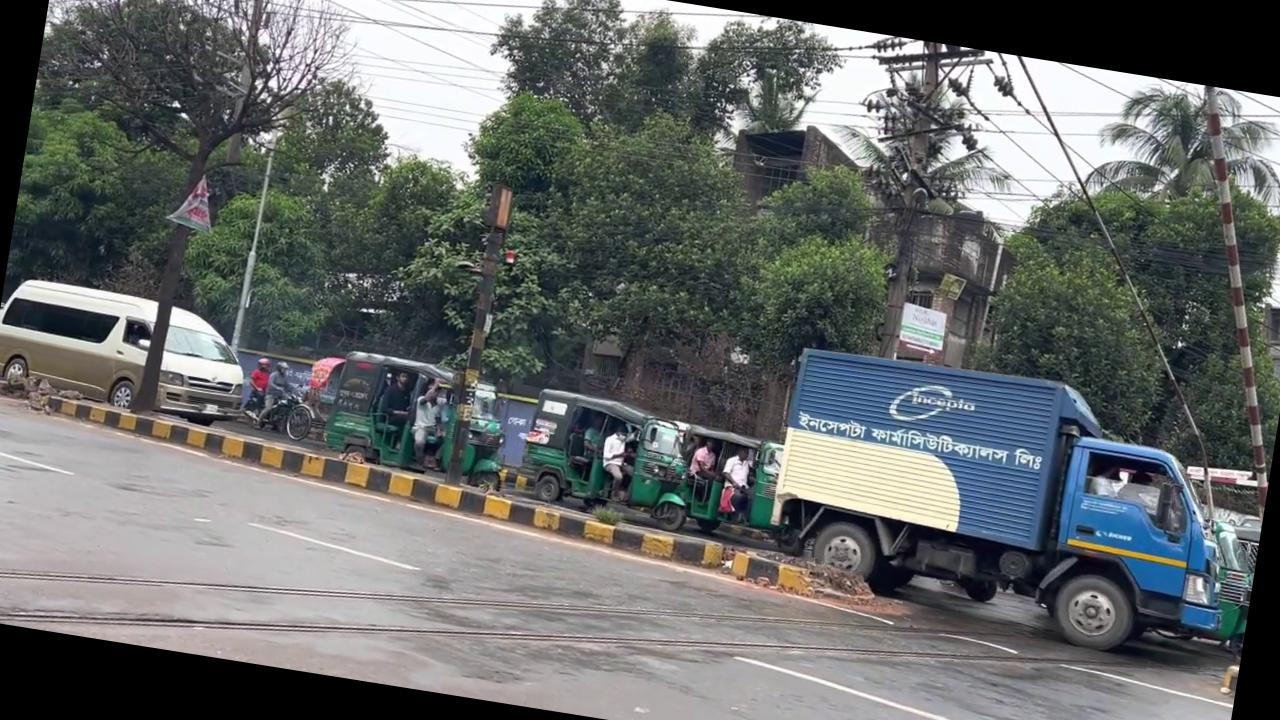Car: (30, 390, 907, 622)
Curb: (238, 373, 318, 442)
Fence: (405, 378, 454, 470), (370, 366, 418, 450), (252, 357, 302, 434), (595, 419, 640, 502), (714, 443, 756, 522), (242, 354, 274, 417)
Garbage: (127, 0, 279, 422), (1137, 84, 1280, 517), (442, 182, 514, 487), (229, 138, 277, 351), (223, 0, 277, 165)
Pole: (502, 248, 516, 266)
Rickshaw: (754, 336, 1254, 668), (317, 345, 520, 493), (632, 414, 788, 546)
